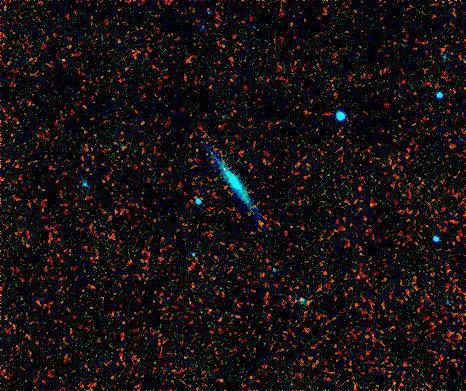star: (239, 210, 269, 240)
